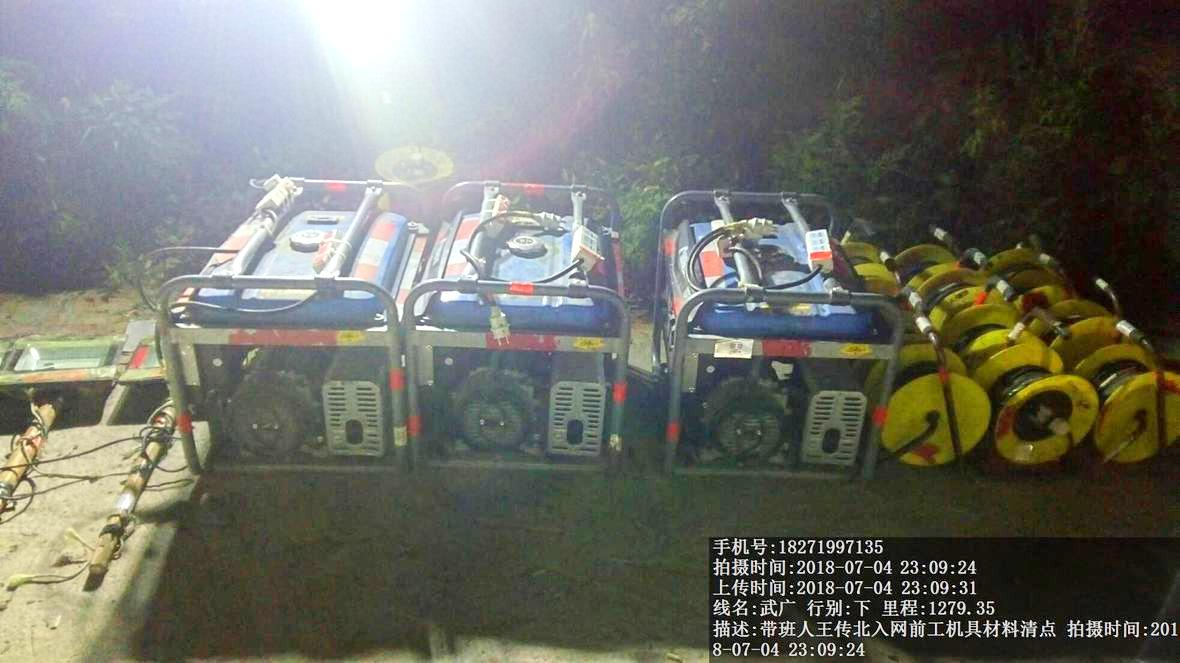DJ: (651, 183, 886, 484), (181, 179, 411, 470), (418, 180, 642, 465)
